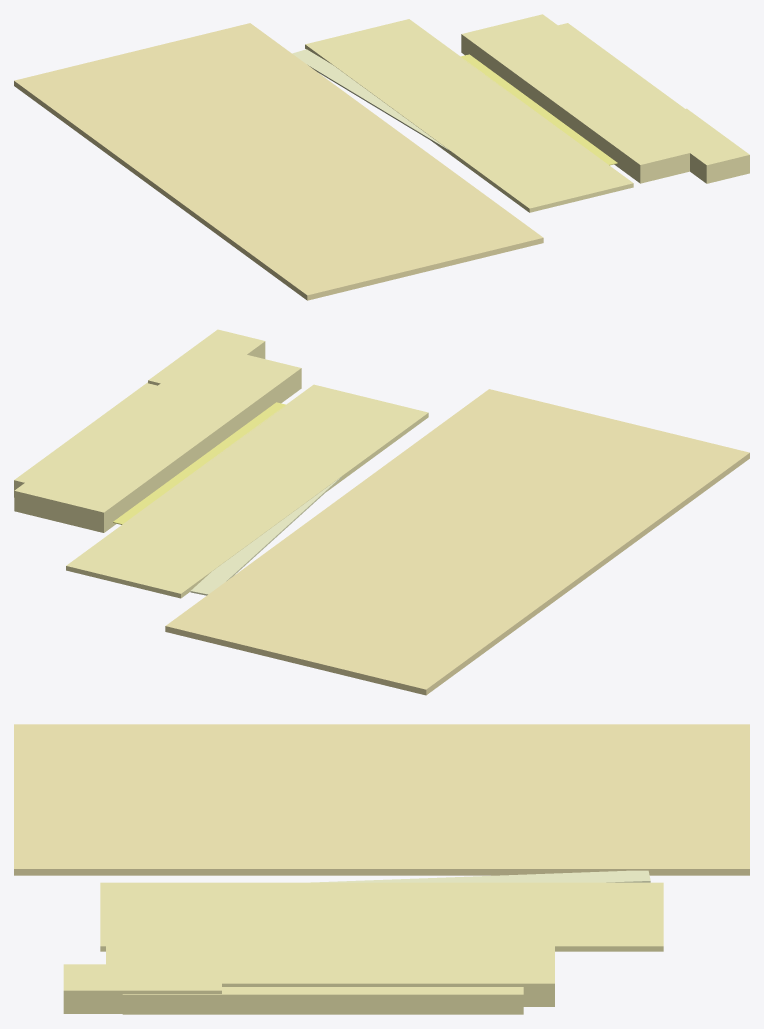
The model's file is road_transit_transfer_platform.glb.
The picture shows the model from 3 angles, top to bottom: view 1: azimuth 30°, elevation 25°; view 2: azimuth 150°, elevation 25°; view 3: azimuth 270°, elevation 25°; orthographic projection. The views are drawn at different scales.
Visible parts, largest first — view 1: travel_lane, transfer_apron, platform_slab, platform_nose, ramp_joint, tactile_edge, curb_face; view 2: travel_lane, transfer_apron, platform_slab, platform_nose, ramp_joint, tactile_edge, curb_face; view 3: travel_lane, transfer_apron, platform_slab, curb_face, platform_nose, ramp_joint.
Part boxes in pixels (x1,y1,x2,y2): travel_lane: (14,23,543,300); transfer_apron: (305,19,633,212); platform_slab: (461,14,720,183); platform_nose: (650,108,749,183); ramp_joint: (292,49,450,152); tactile_edge: (460,54,617,165); curb_face: (558,23,684,111); travel_lane: (165,389,749,695); transfer_apron: (66,384,428,598); platform_slab: (14,346,301,532); platform_nose: (148,329,265,391); ramp_joint: (190,476,341,595); tactile_edge: (113,402,286,524); curb_face: (14,382,157,497); travel_lane: (14,724,749,875); transfer_apron: (100,882,663,951); platform_slab: (106,934,554,1006); curb_face: (122,987,523,1014); platform_nose: (63,964,221,1013); ramp_joint: (311,870,650,882).
Size of the model in its own units: 3.65 by 0.14 by 4.
